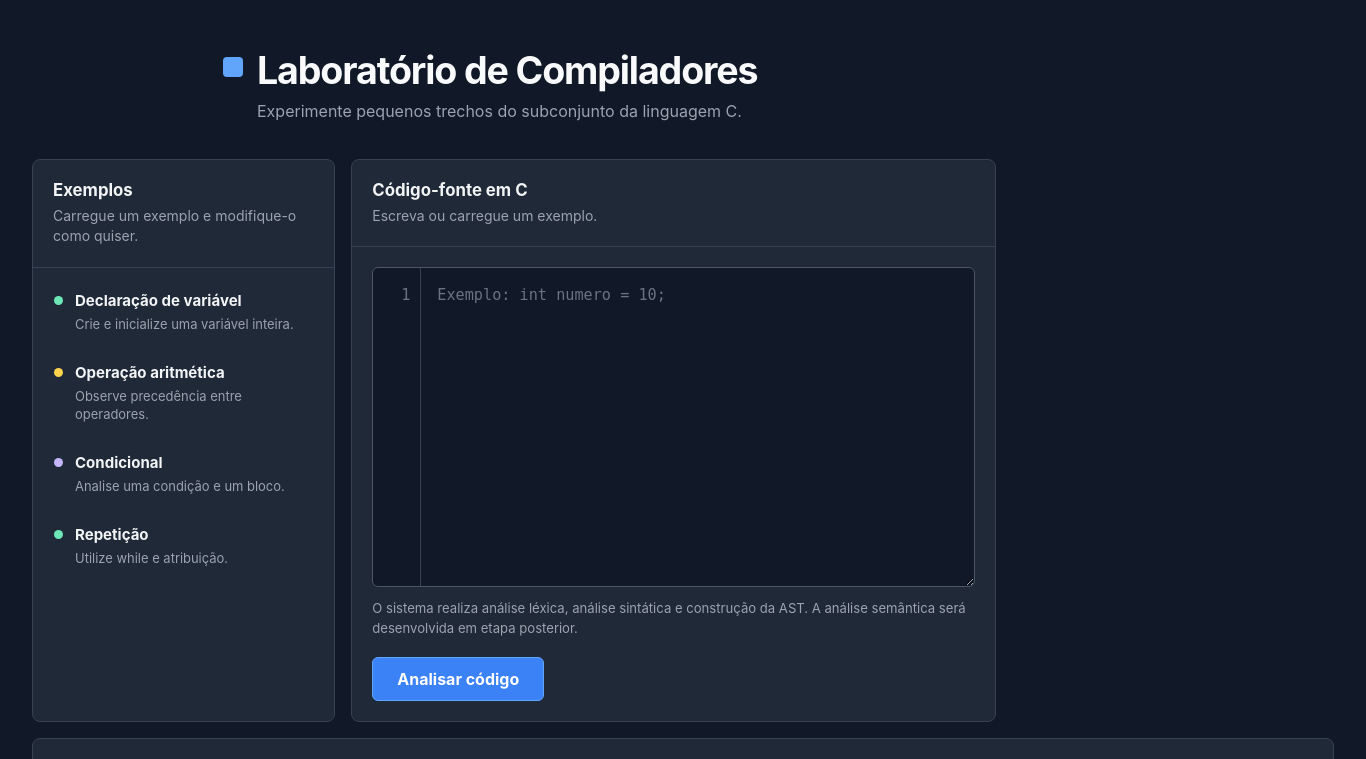
Test case: App › carrega exemplo no editor
This screenshot has width=1366, height=759.
Step 1. Click the button "Operação aritmética Observe precedência entre operadores." → (184, 393), box [41,348,326,438]
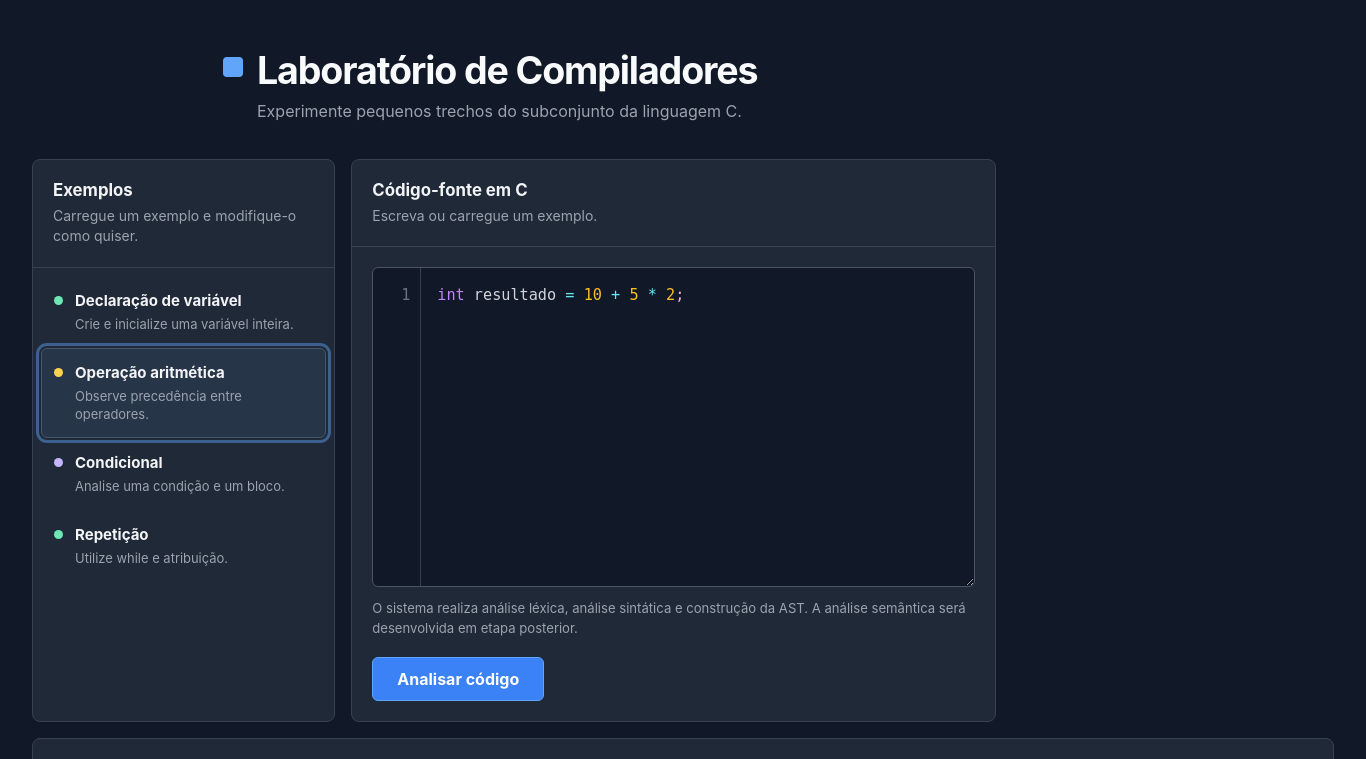
Now the text box named "Editor de código-fonte em C" holds "int resultado = 10 + 5 * 2;", box [421,268,974,586]
